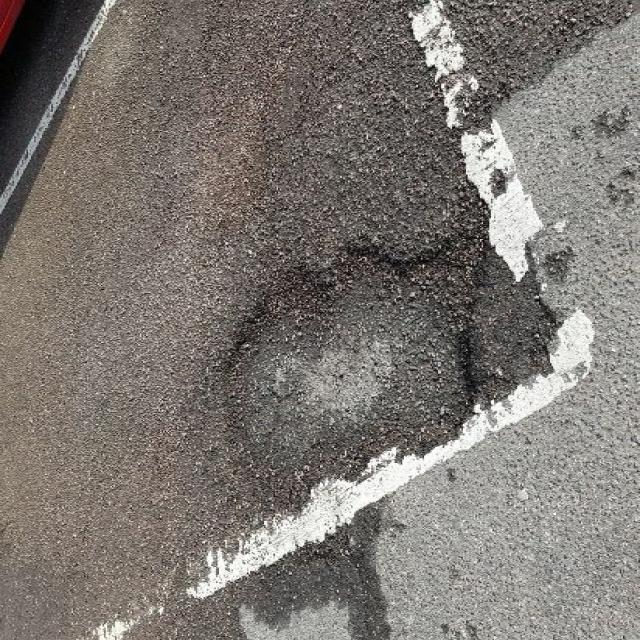pothole: (204, 223, 504, 496)
